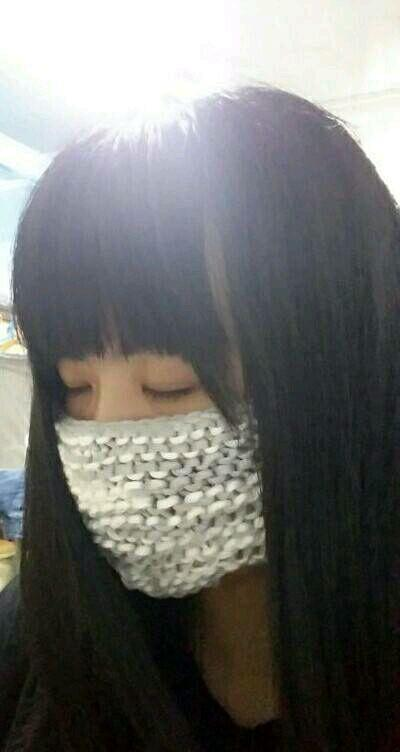OK: (37, 318, 301, 582)
